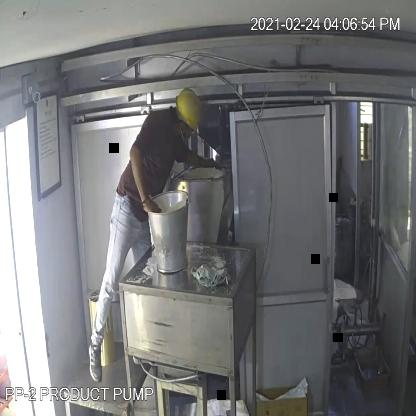helmet: (172, 82, 203, 132)
